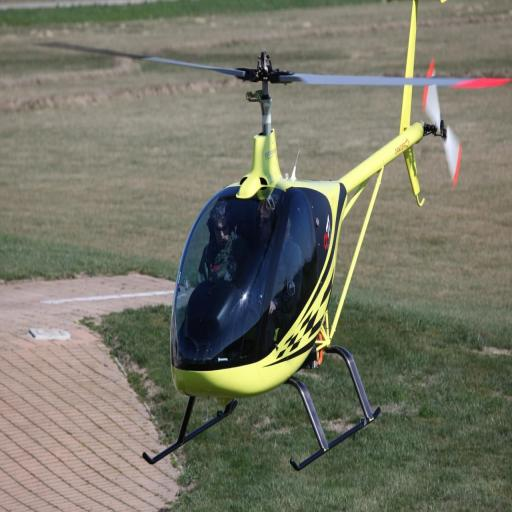helicopter: (79, 5, 508, 470)
